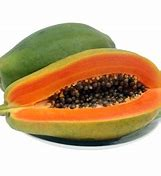papaya: (1, 48, 161, 142)
